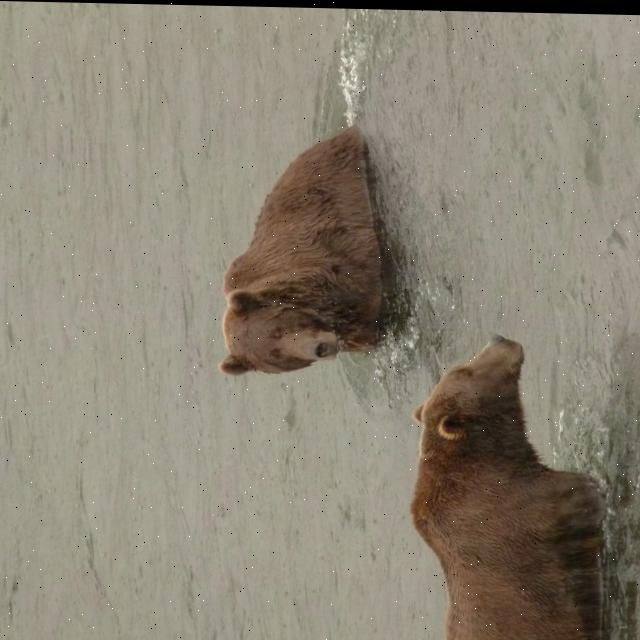bear face: (409, 328, 601, 640), (219, 128, 379, 376)
